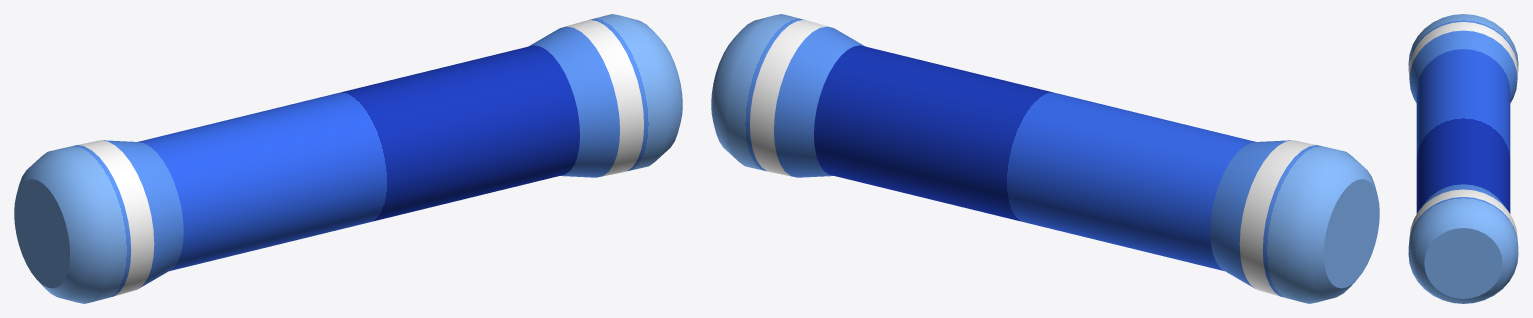
File: breakout_hoverboard.fbx
The picture shows the model from 3 angles, left to right: view 1: azimuth 30°, elevation 25°; view 2: azimuth 150°, elevation 25°; view 3: azimuth 270°, elevation 25°; orthographic projection. The views are drawn at different scales.
Visible parts, largest first — view 1: hoverboard; view 2: hoverboard; view 3: hoverboard.
Boxes of the visible parts, box(x1,y1,x2,y2) form: hoverboard: box(14, 14, 682, 303); hoverboard: box(711, 14, 1379, 303); hoverboard: box(1408, 14, 1518, 303).
Size of the model in its own units: 400 by 89.03 by 89.03.
